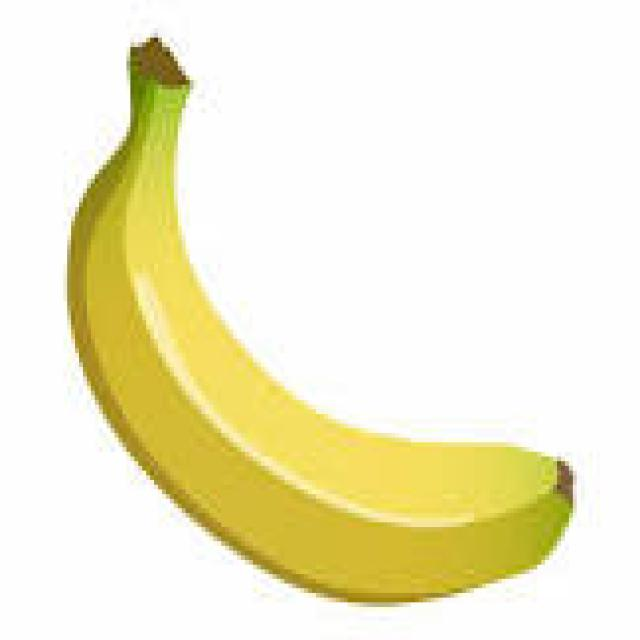Ripe: (60, 29, 578, 610)
